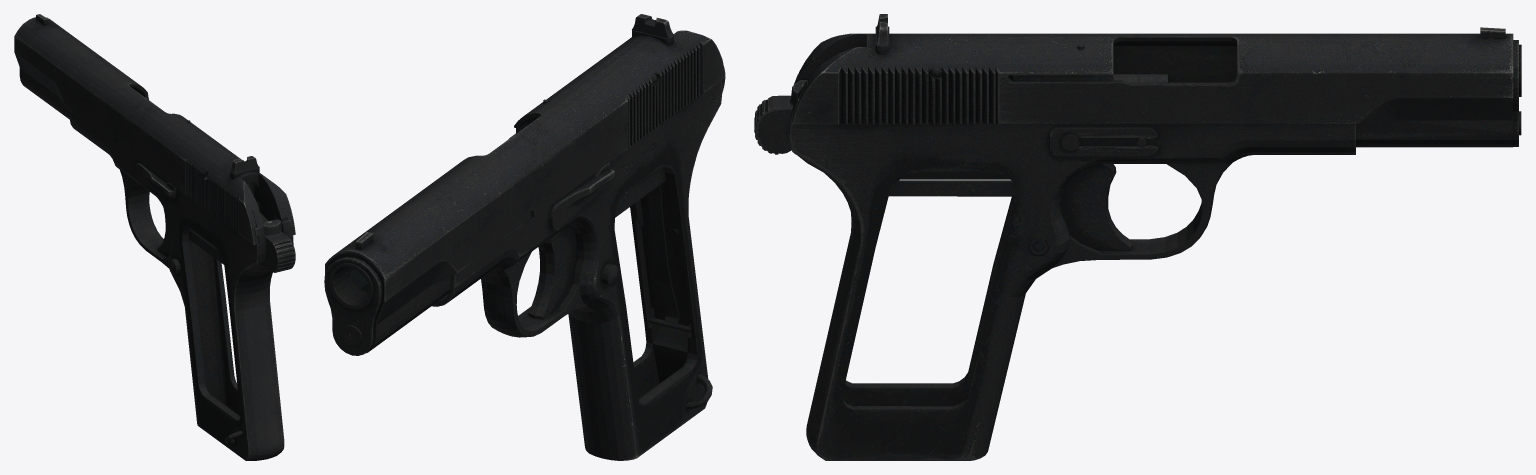
3 renders of one model, left to right at view 1: azimuth 30°, elevation 25°; view 2: azimuth 150°, elevation 25°; view 3: azimuth 270°, elevation 25°, orthographic. The views are drawn at different scales.
Parts seen in each view (by area): view 1: TW_571a12c42459771f627b58a0_PZ_Import; view 2: TW_571a12c42459771f627b58a0_PZ_Import; view 3: TW_571a12c42459771f627b58a0_PZ_Import.
Boxes of the visible parts, box(x1,y1,x2,y2) form: TW_571a12c42459771f627b58a0_PZ_Import: box(14, 14, 295, 460); TW_571a12c42459771f627b58a0_PZ_Import: box(324, 14, 725, 460); TW_571a12c42459771f627b58a0_PZ_Import: box(754, 14, 1521, 460).
Bounding box in the file's own units: 0.0136 × 0.1169 × 0.0718.
1 material, 1 textured.
